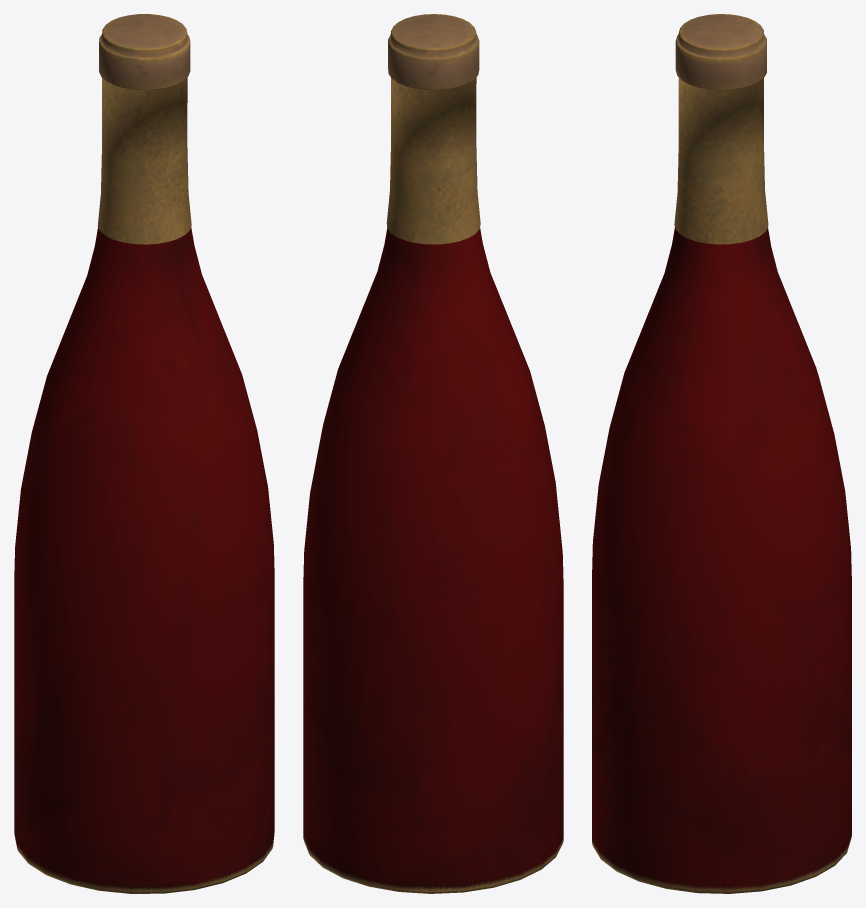
File: SM_Bottle11.fbx
3 renders of one model, left to right at view 1: azimuth 30°, elevation 25°; view 2: azimuth 150°, elevation 25°; view 3: azimuth 270°, elevation 25°, orthographic.
Visible parts, largest first — view 1: SM_Bottle11_LOD0; view 2: SM_Bottle11_LOD0; view 3: SM_Bottle11_LOD0.
Boxes of the visible parts, bbox=[...] form: SM_Bottle11_LOD0: bbox=[14, 14, 274, 893]; SM_Bottle11_LOD0: bbox=[303, 14, 563, 893]; SM_Bottle11_LOD0: bbox=[592, 14, 851, 893].
Bounding box in the file's own units: 13.04 × 13.01 × 44.84.
Materials: 1 (1 with a texture image).
